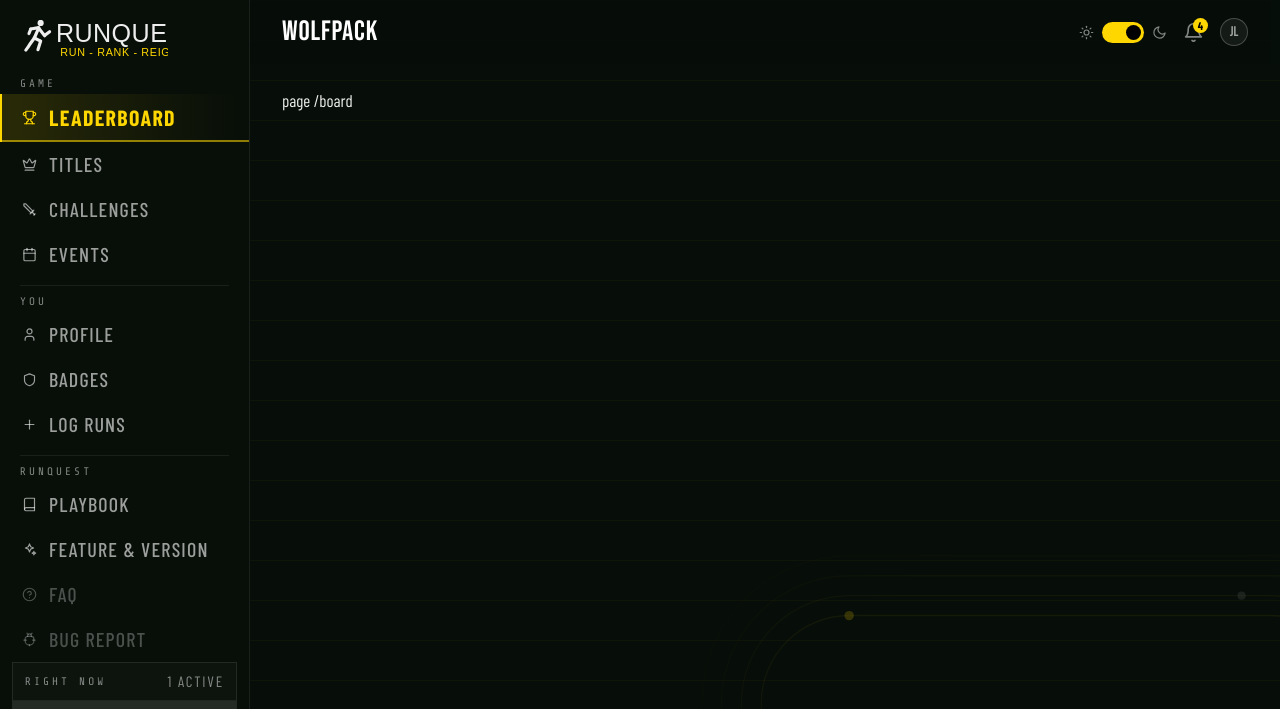
Scenario: klockan: webbanalys › reports notifications-opened, with nothing about the news or the count, each time the popover is opened
Click the button "4": [1194, 32] box [1183,22,1204,42]
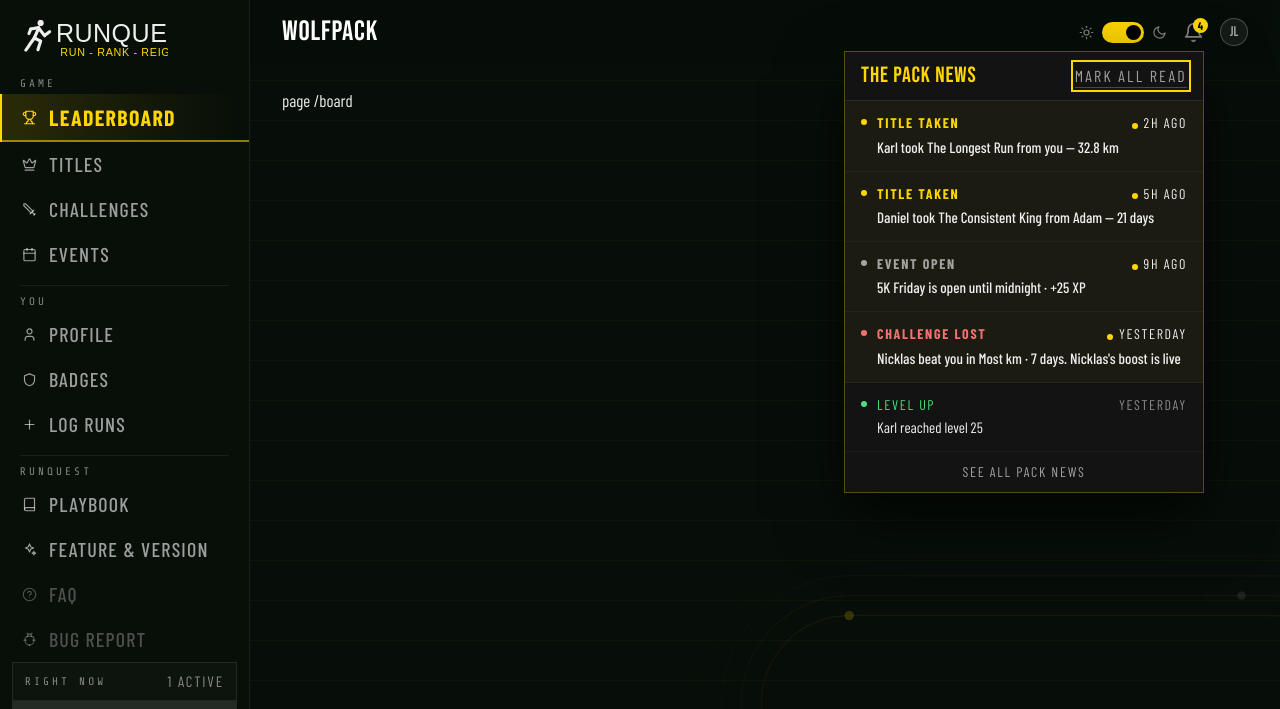
Now the dialog "Pack News" is shown, box [844,51,1204,493]
Press Escape
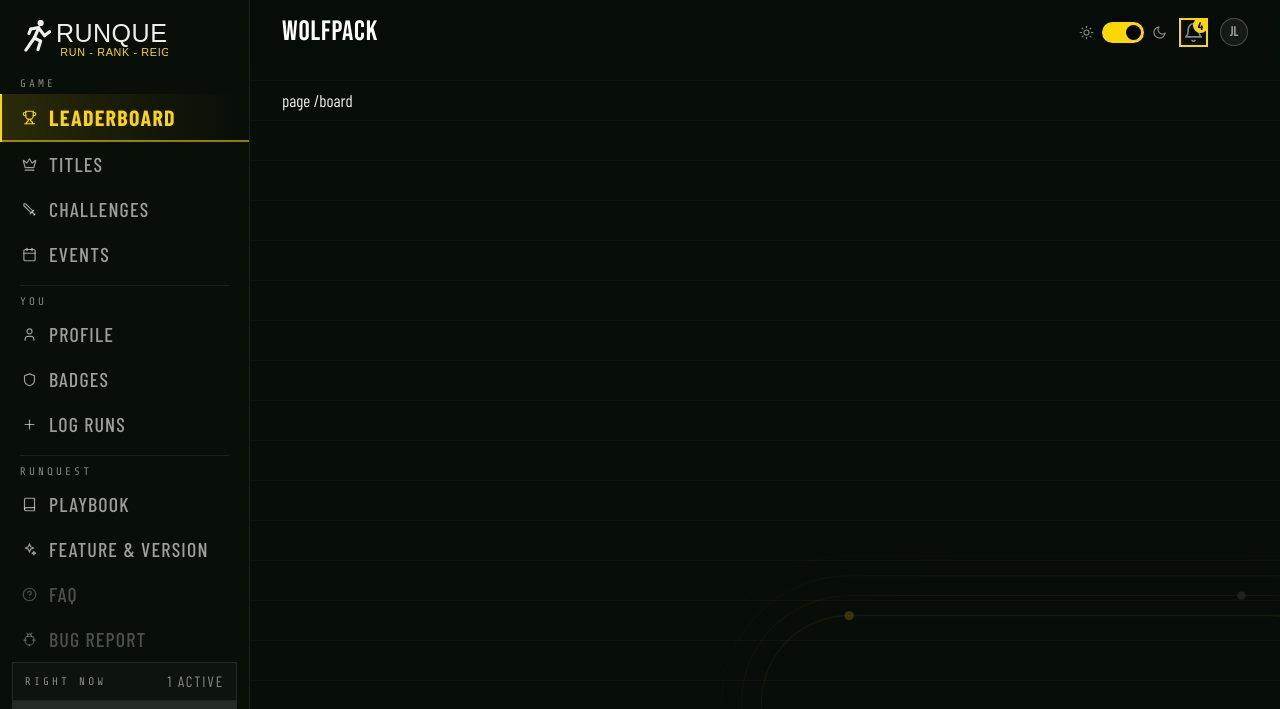
Now the heading "Pack News" is gone
Click the button named "Pack news": [1194, 32] box [1183,22,1204,42]
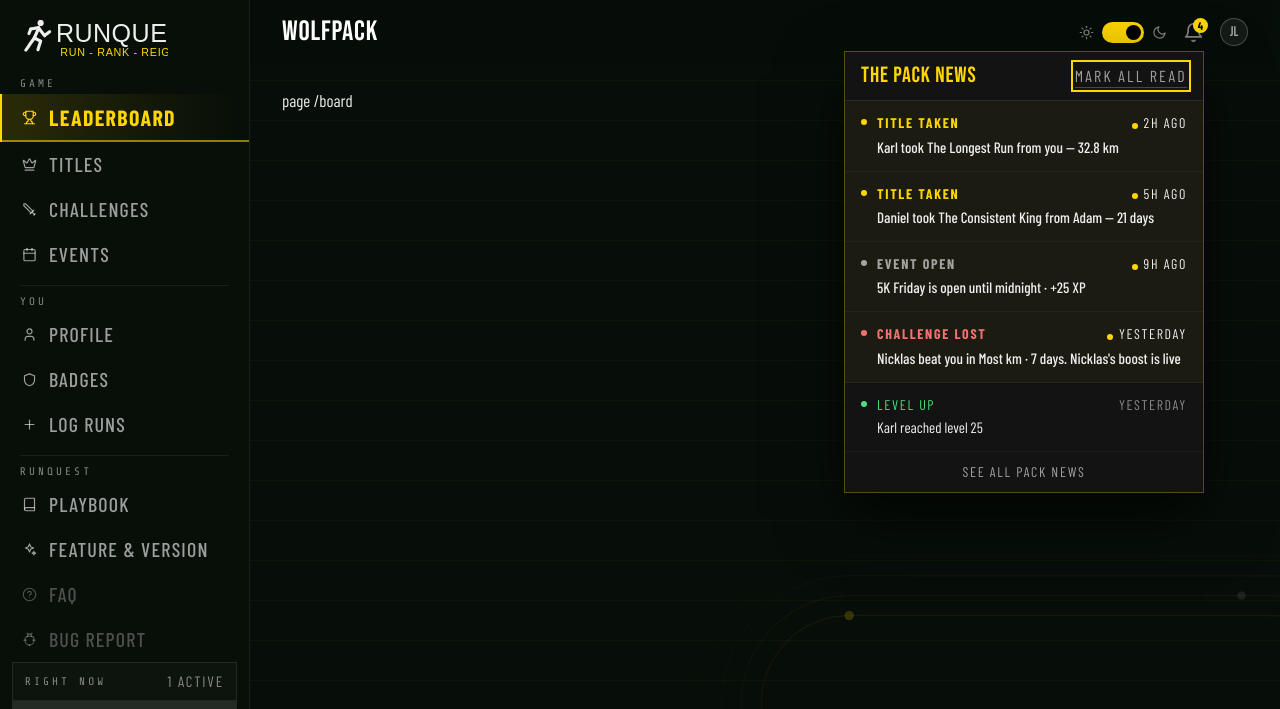
Now the dialog "Pack News" is shown, box [844,51,1204,493]
